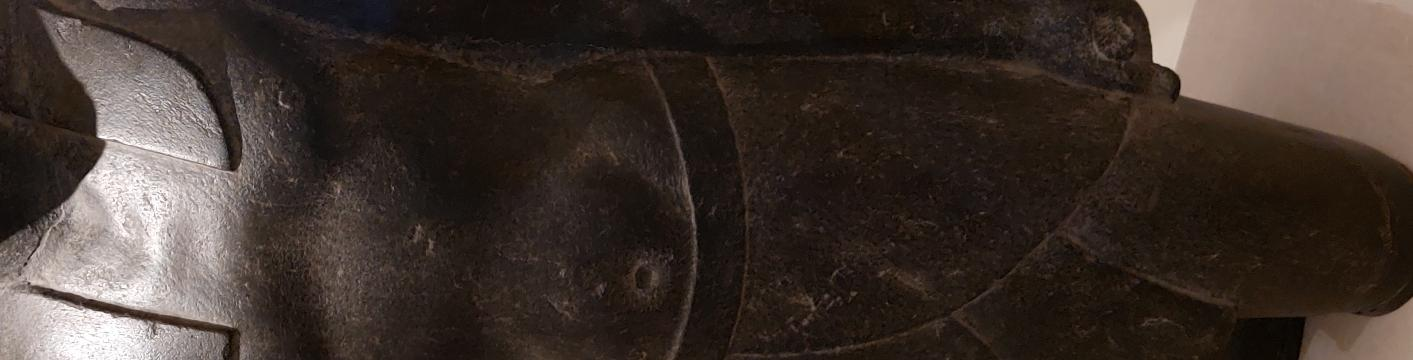RoyalStatues: (0, 0, 409, 360)
